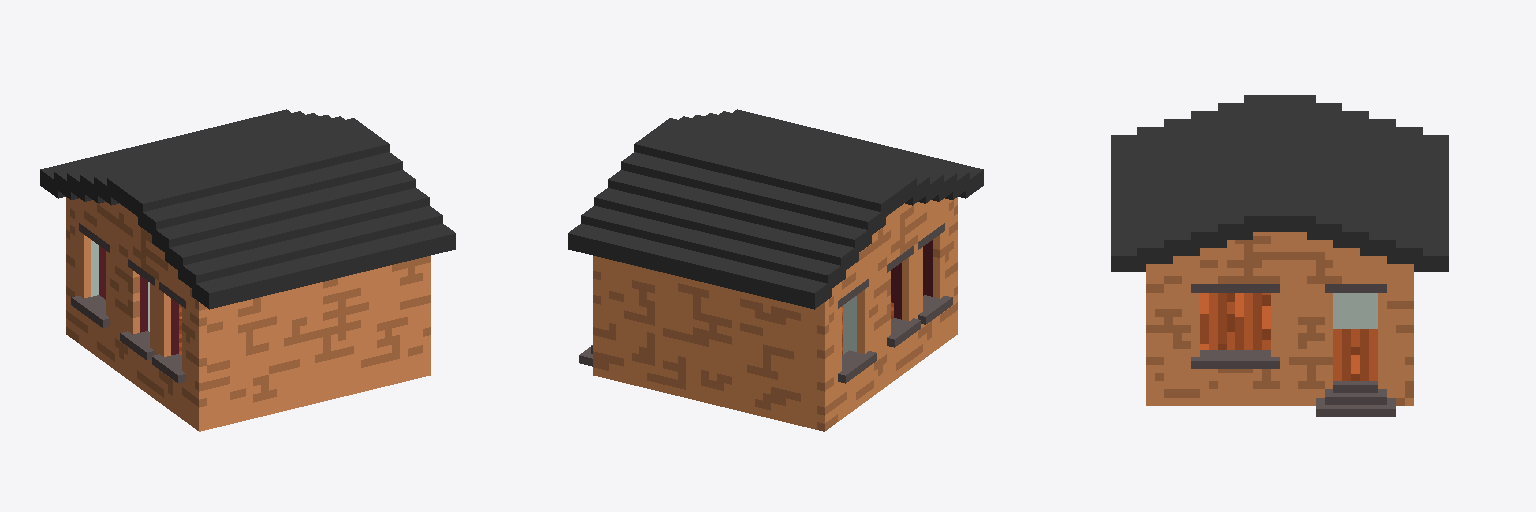
3 views of the same model, side by side, from view 1: azimuth 30°, elevation 25°; view 2: azimuth 150°, elevation 25°; view 3: azimuth 270°, elevation 25° (orthographic).
Parts seen in each view (by area): view 1: object 1; view 2: object 1; view 3: object 1.
Part boxes in pixels (x1,y1,x2,y2): object 1: (40, 109, 455, 431); object 1: (568, 109, 983, 431); object 1: (1111, 95, 1448, 416).
Bounding box in the file's own units: 3.4 × 2.4 × 3.8.
Materials: 1 (1 with a texture image).